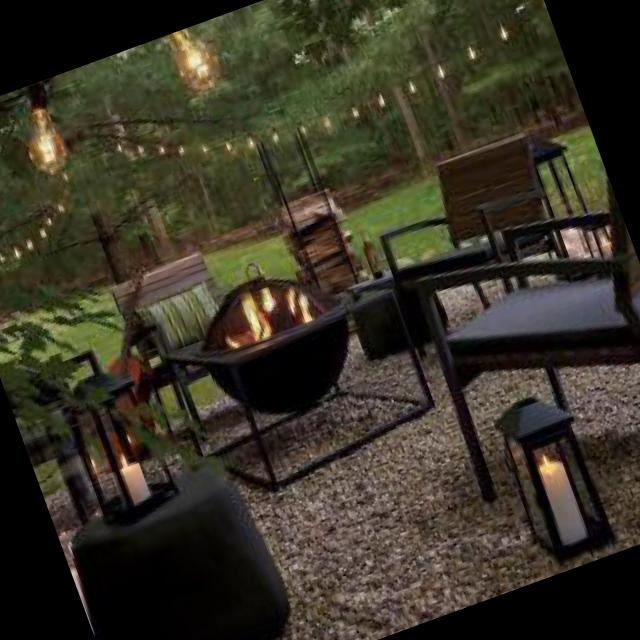fire: (210, 260, 332, 362)
